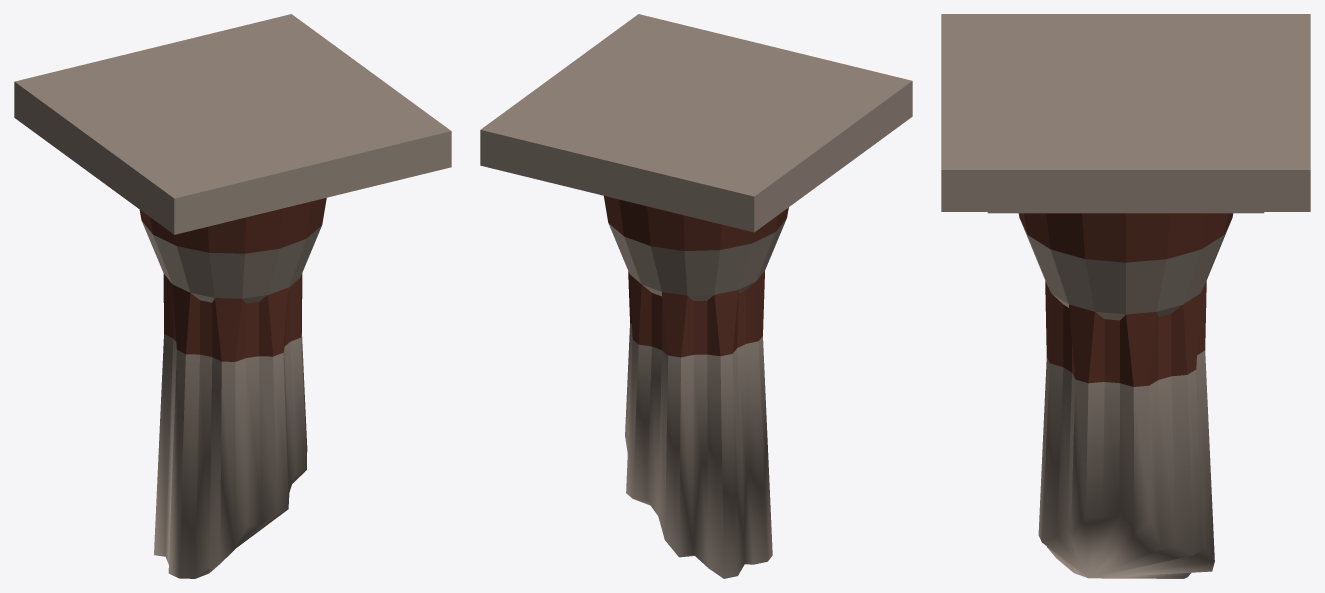
The model's file is Column_04_Broken_01.fbx.
The picture shows the model from 3 angles, left to right: view 1: azimuth 30°, elevation 25°; view 2: azimuth 150°, elevation 25°; view 3: azimuth 270°, elevation 25°; orthographic projection. The views are drawn at different scales.
Visible parts, largest first — view 1: Cylinder; view 2: Cylinder; view 3: Cylinder.
Boxes of the visible parts, x1,y1,x2,y2 form: Cylinder: [14, 14, 451, 578]; Cylinder: [480, 14, 912, 578]; Cylinder: [941, 14, 1310, 578].
Size of the model in its own units: 160 by 247 by 160.
